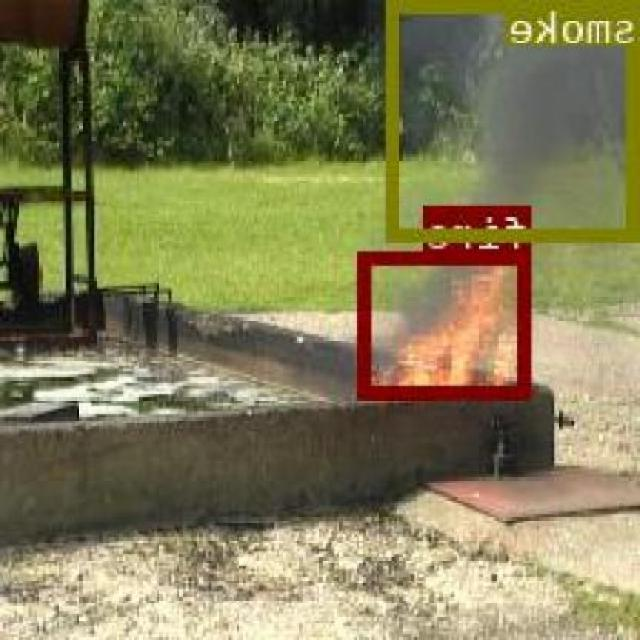Fire: (362, 248, 535, 398)
Smoke: (391, 0, 640, 240)
